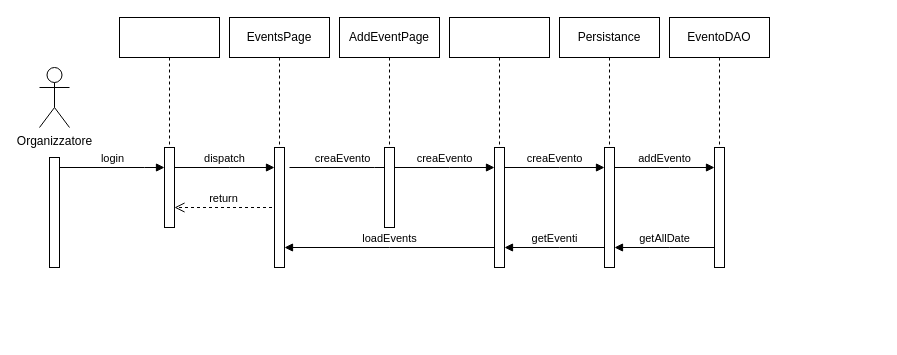
Image size: 897x355. Some labels were removed from this diagram. Each missing label, with the centre of its shape:
Controller: (x=499, y=122)
LoginPage: (x=169, y=122)
